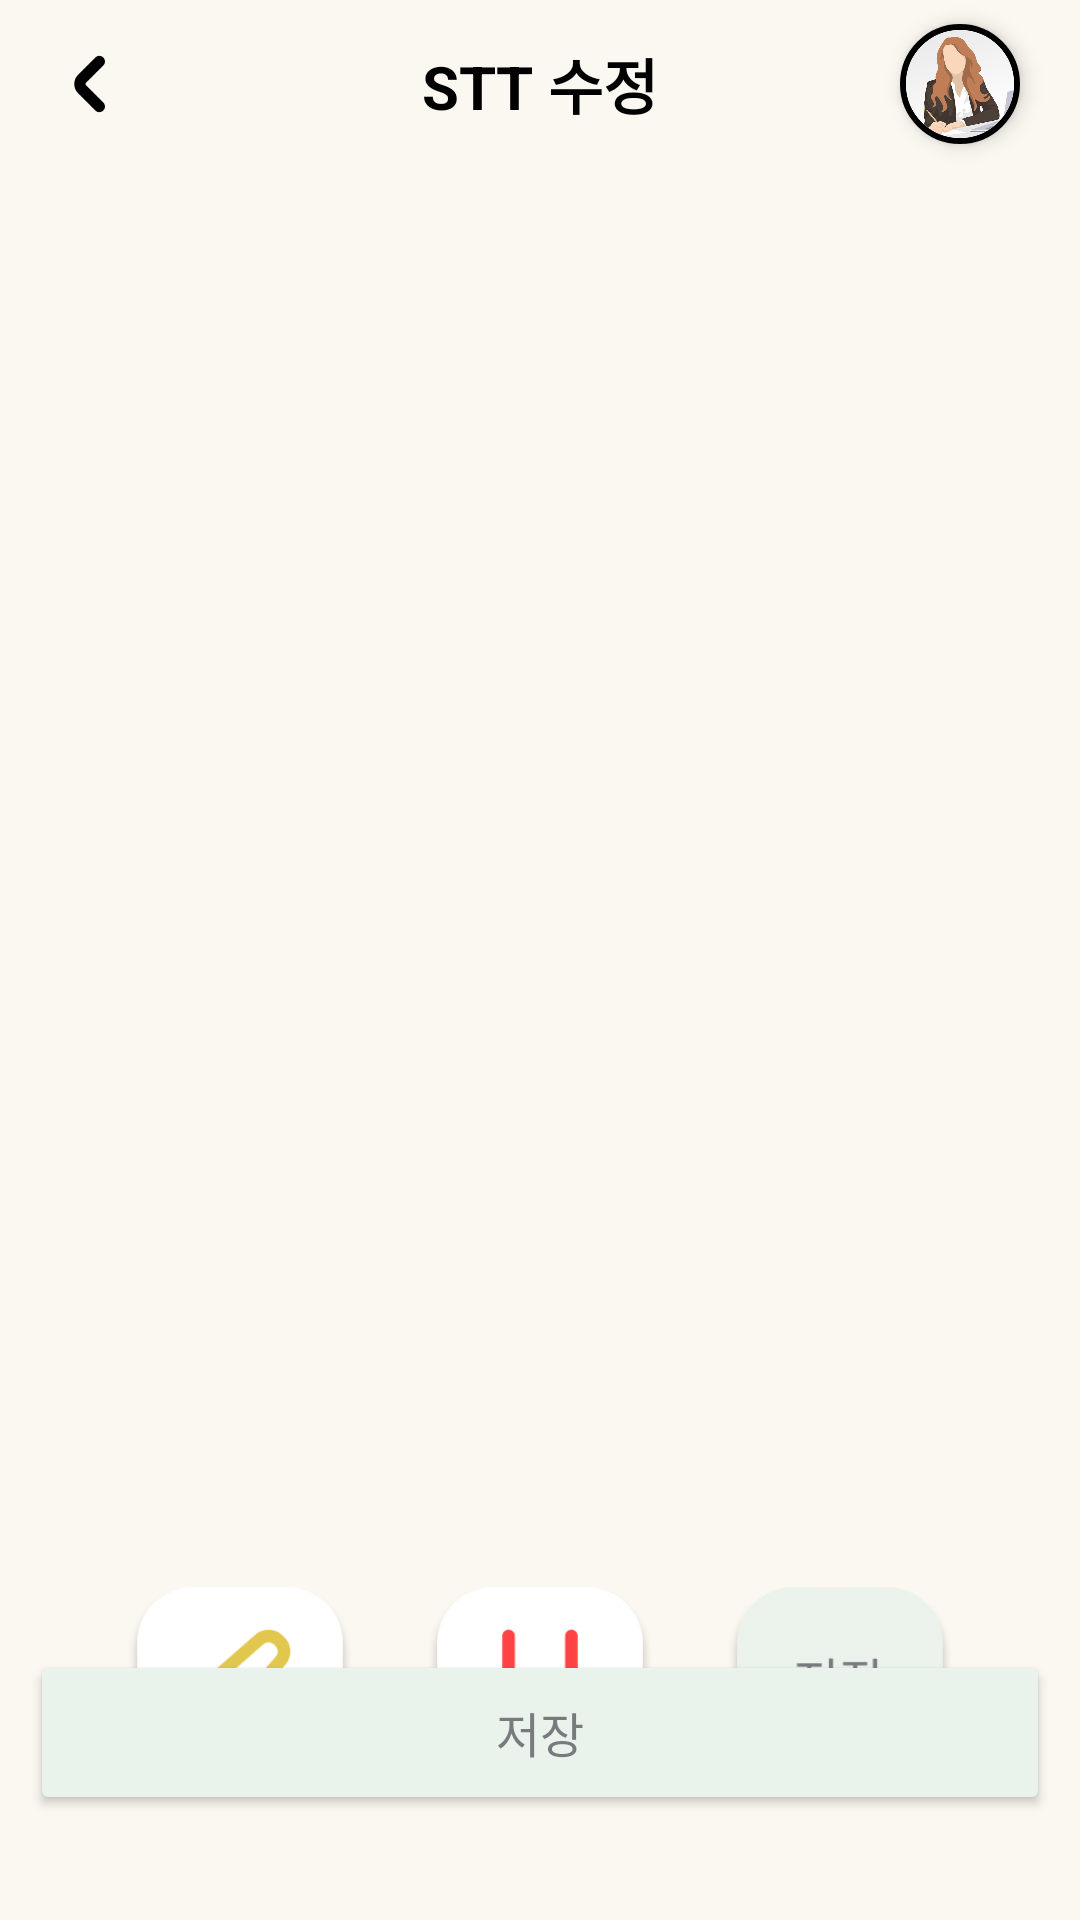

Where to tap for icons on this 1080px×1920px app screen, as point (x, y):
back: point (89, 84)
profile: point (960, 84)
